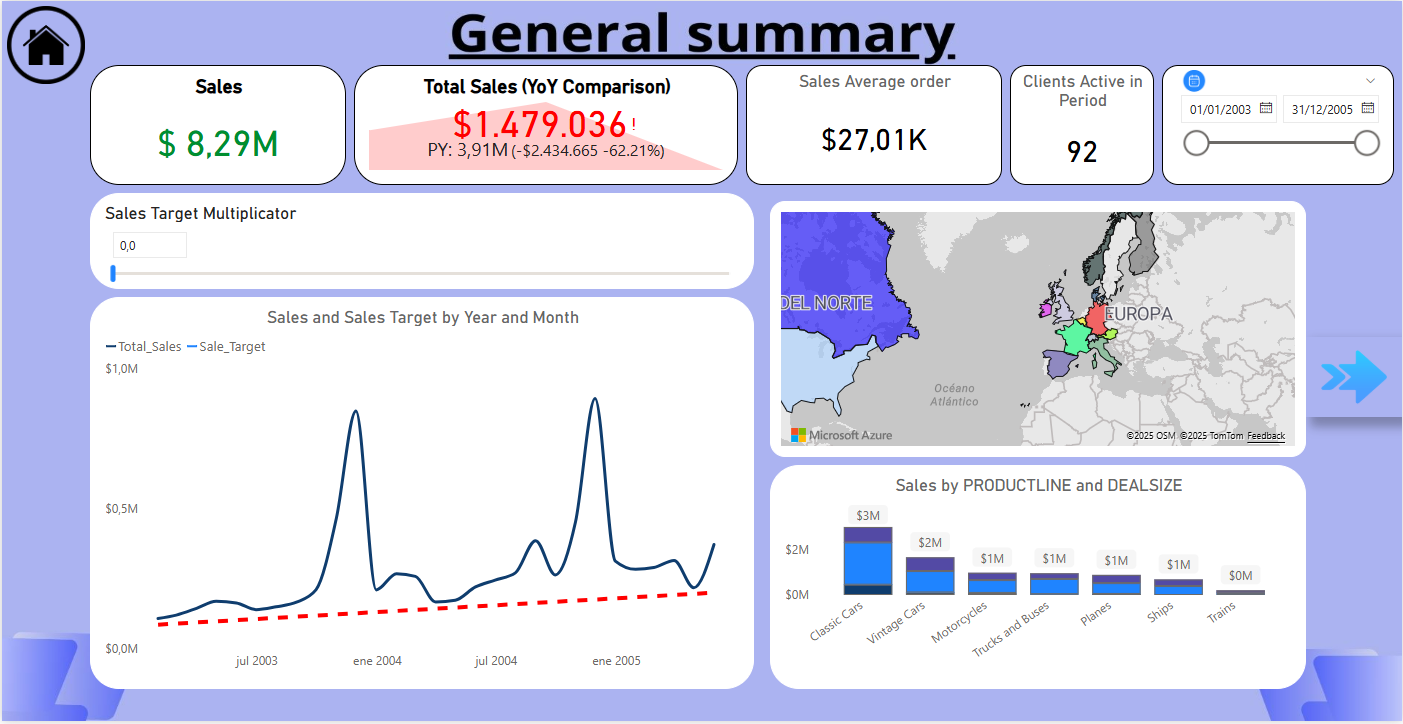

The dashboard page shown, as its layout file describes it:
{"tool":"powerbi","page":{"name":"General summary","canvas":[1400,720],"ordinal":1},"visuals":[{"type":"areaChart","title":"Sales and Sales Target by Year and Month","fields":{"Y":["Measure.002 $ Total_Sales","Measure.011 $ Sale_Target"],"Category":["Dim_Calendar.MonthEnd.Variation.Jerarquía de fechas.Año"]},"box":[88,296,664,392],"z":0},{"type":"columnChart","fields":{"Category":["Dim_Product.PRODUCTLINE"],"Y":["Measure.002 $ Total_Sales"],"Series":["Dim_DealSize.DEALSIZE"]},"box":[768,464,536,224],"z":1000},{"type":"slicer","title":"Sales Target Multiplicator","fields":{"Values":["Parámetro.Parámetro"]},"box":[88,192,664,96],"z":2000},{"type":"cardVisual","title":"Sales","fields":{"Data":["Measure.002 $ Total_Sales"]},"box":[88,64,256,120],"z":3000},{"type":"cardVisual","title":"Sales Average order","fields":{"Data":["Measure.004 $ Sales_Average_Order"]},"box":[744,64,256,120],"z":4000},{"type":"cardVisual","title":"Clients Active in Period","fields":{"Data":["Measure.007 $ Active_Clients"]},"box":[1008,64,144,120],"z":5000},{"type":"image","box":[1304,336,96,80],"z":6000},{"type":"slicer","fields":{"Values":["Dim_Calendar.Date"]},"box":[1160,64,232,120],"z":7000},{"type":"image","box":[0,0,88,88],"z":8000},{"type":"image","box":[1168,64,48,32],"z":9000},{"type":"kpi","title":"Total Sales (YoY Comparison)","fields":{"Indicator":["Measure.002 $ Total_Sales"],"Goal":["Measure.022 $ Total_Sales_PY"],"TrendLine":["Dim_Calendar.Year"]},"box":[352,64,384,120],"z":10000},{"type":"azureMap","fields":{"Category":["Dim_Customer.COUNTRY"]},"box":[768,200,536,256],"z":11000}]}

Visuals, with their boxes in screenshot pixels (x1, y1, x2, y2), scaled from the page's 1400x720 canvas onto the 1403x724 screenshot:
"Sales and Sales Target by Year and Month" areaChart: x1=88, y1=298, x2=754, y2=692
columnChart - Dim_Product.PRODUCTLINE x Measure.002 $ Total_Sales: x1=770, y1=467, x2=1307, y2=692
"Sales Target Multiplicator" slicer: x1=88, y1=193, x2=754, y2=290
"Sales" cardVisual: x1=88, y1=64, x2=345, y2=185
"Sales Average order" cardVisual: x1=746, y1=64, x2=1002, y2=185
"Clients Active in Period" cardVisual: x1=1010, y1=64, x2=1154, y2=185
image: x1=1307, y1=338, x2=1402, y2=418
slicer - Dim_Calendar.Date: x1=1162, y1=64, x2=1395, y2=185
image: x1=0, y1=0, x2=88, y2=88
image: x1=1171, y1=64, x2=1219, y2=97
"Total Sales (YoY Comparison)" kpi: x1=353, y1=64, x2=738, y2=185
azureMap - Dim_Customer.COUNTRY: x1=770, y1=201, x2=1307, y2=459
